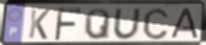A: (167, 7, 201, 40)
C: (141, 6, 170, 41)
F: (53, 7, 84, 42)
K: (27, 9, 51, 41)
Q: (83, 8, 111, 41)
U: (112, 8, 143, 41)
